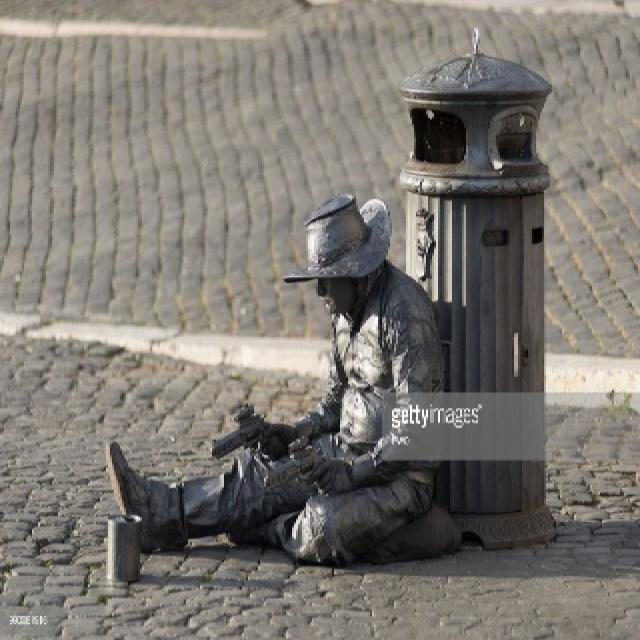handgun: (211, 399, 283, 462)
